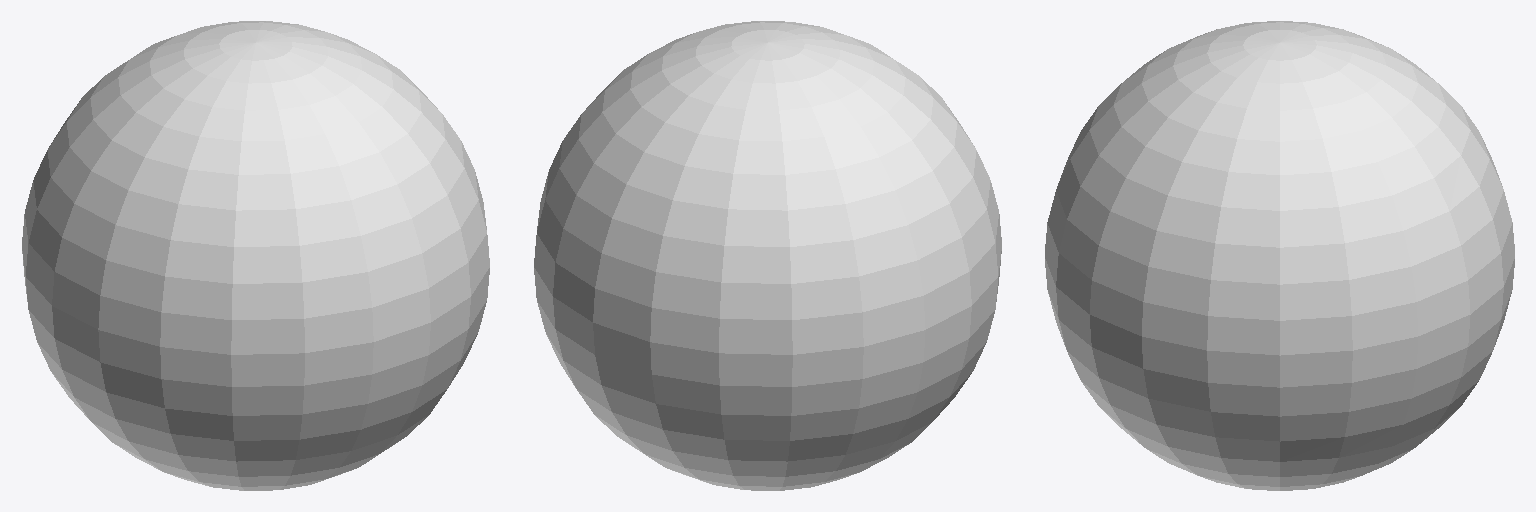
Rendered from mirror.obj.
3 renders of one model, left to right at view 1: azimuth 30°, elevation 25°; view 2: azimuth 150°, elevation 25°; view 3: azimuth 270°, elevation 25°, orthographic.
Parts seen in each view (by area): view 1: pSphere2; view 2: pSphere2; view 3: pSphere2.
Boxes of the visible parts, <box> form: pSphere2: <box>22,21,489,490</box>; pSphere2: <box>534,21,1001,490</box>; pSphere2: <box>1045,21,1514,490</box>.
Size of the model in its own units: 0.5957 by 0.5957 by 0.5957.